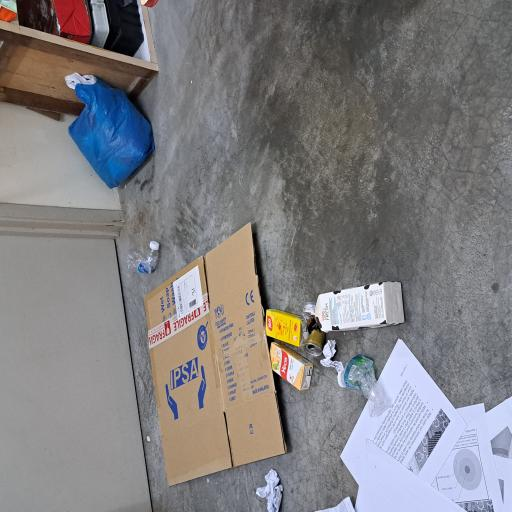can: (116, 402, 159, 434)
cardboard: (22, 192, 216, 380)
drink carton: (135, 420, 173, 512), (92, 358, 128, 417), (124, 353, 152, 404)
paper: (0, 451, 129, 512), (0, 340, 33, 378), (106, 427, 130, 459), (0, 415, 11, 474)
plastic bag: (245, 95, 322, 203)
plastic bottle: (71, 448, 118, 512), (178, 168, 205, 213)
plastic bottle cap: (94, 449, 107, 463), (197, 198, 204, 213)
pop tab: (117, 410, 125, 426)
